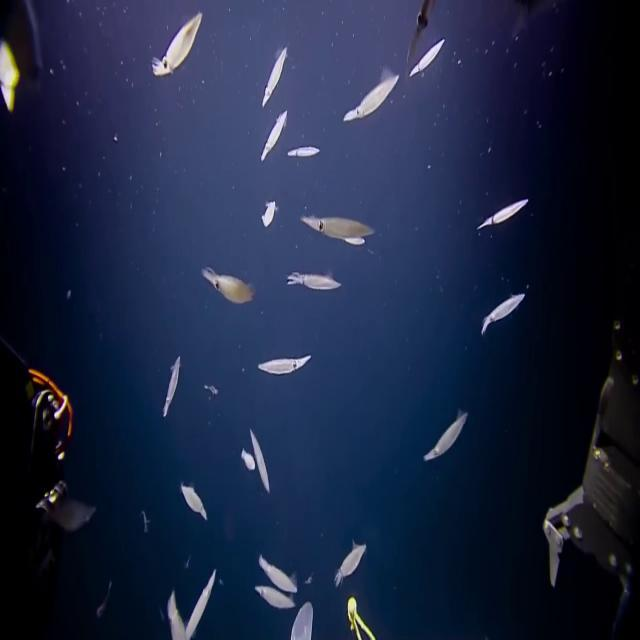squid: (152, 11, 202, 75), (344, 70, 398, 122), (181, 563, 217, 640), (424, 411, 470, 462), (202, 268, 254, 304), (300, 216, 376, 240), (46, 500, 96, 536), (258, 552, 300, 594), (482, 295, 524, 336), (261, 42, 287, 108), (478, 197, 528, 229), (410, 38, 446, 78), (250, 429, 271, 496), (260, 110, 287, 160), (258, 353, 312, 378), (179, 484, 211, 524), (287, 271, 342, 292), (254, 583, 296, 610), (336, 547, 366, 584), (164, 354, 180, 418), (261, 200, 278, 229), (288, 146, 320, 158)
